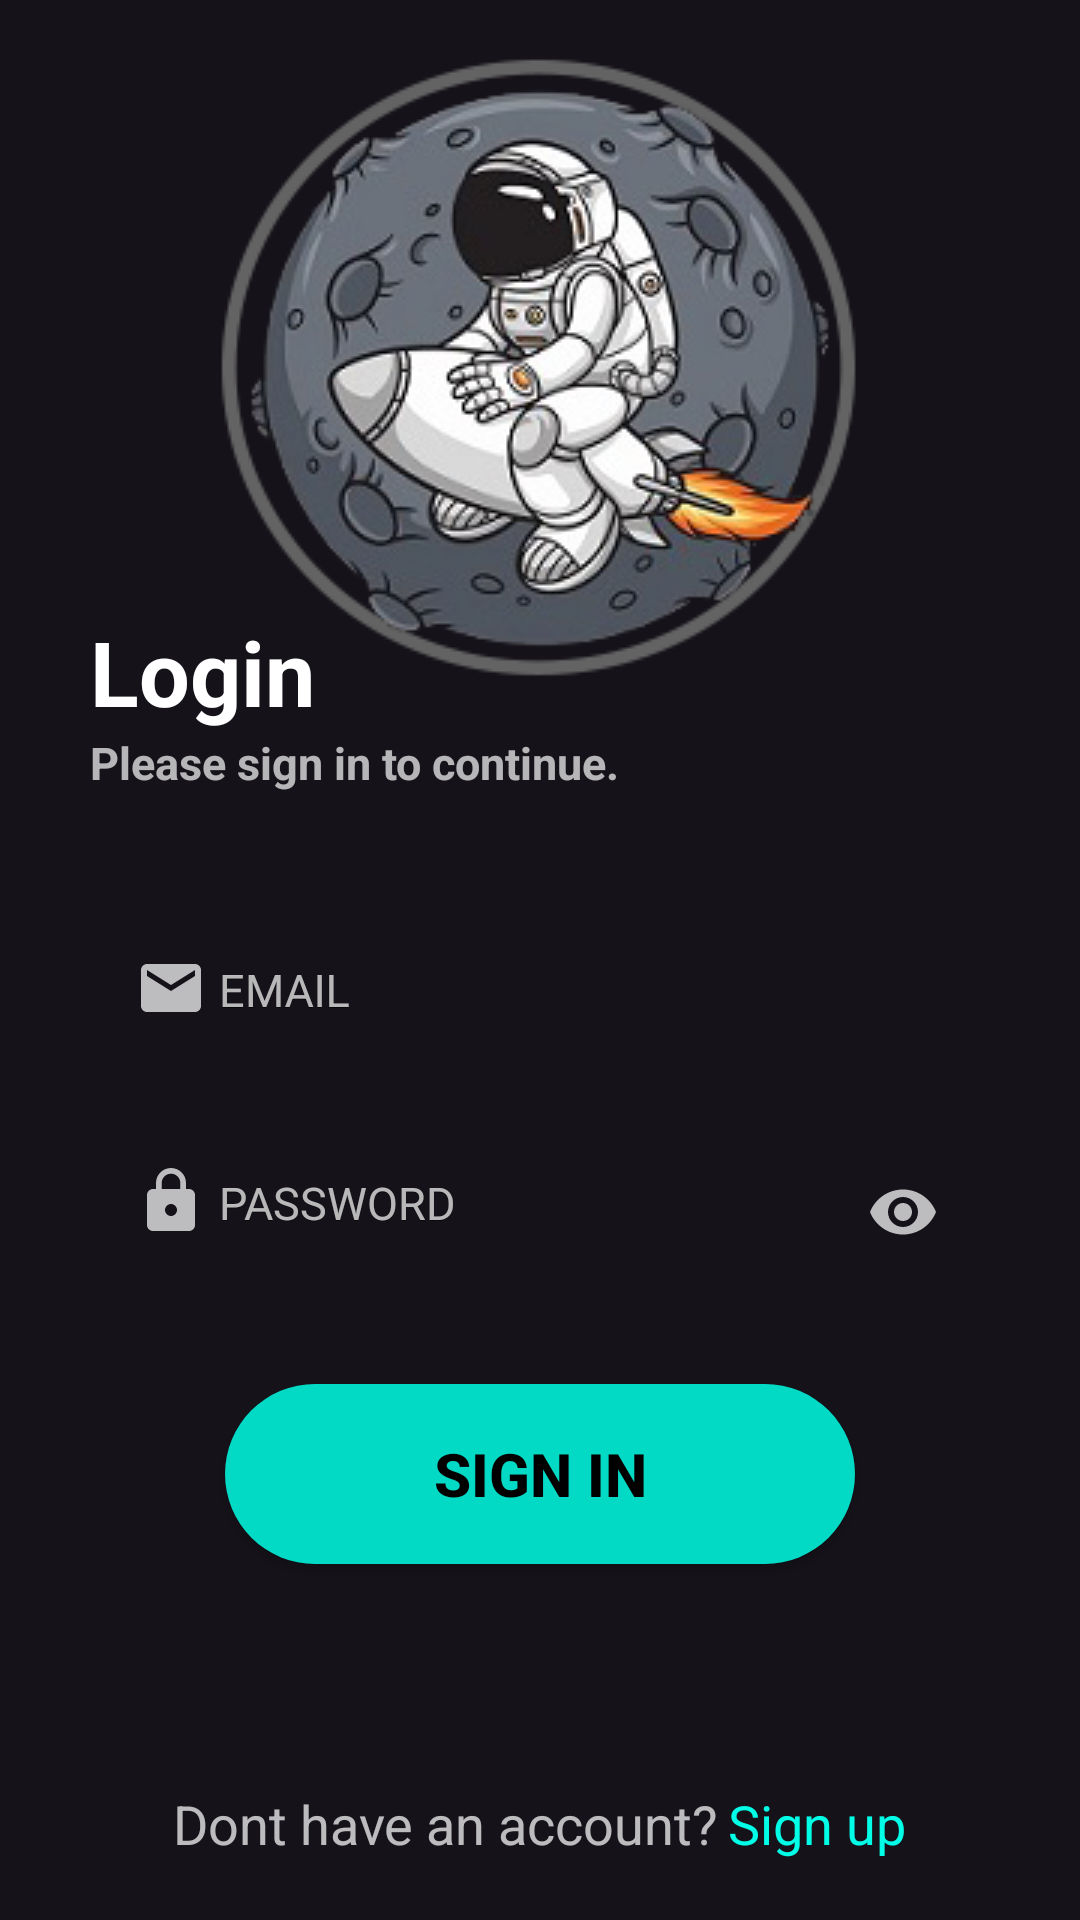

Icon bounding boxes for this 1080px x 1920px phone screenshot, format box=[x1, y1, x2, y2]:
lock: box=[147, 1168, 195, 1231]
